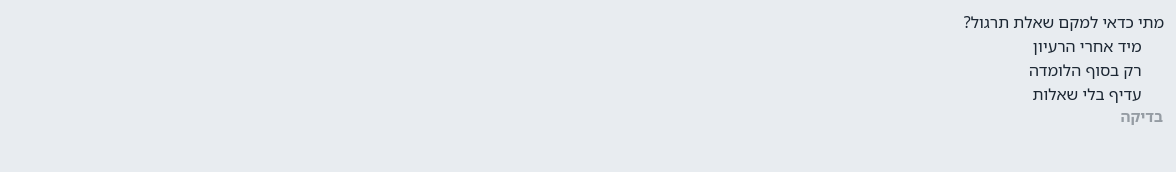
Test: QuizRenderer — מענה › בלי ניסיון נוסף, השאלה ננעלת אחרי מענה
This screenshot has width=1176, height=172.
Click the radio button labelled "רק בסוף הלומדה". click: (1085, 70)
box: [1029, 59, 1142, 81]
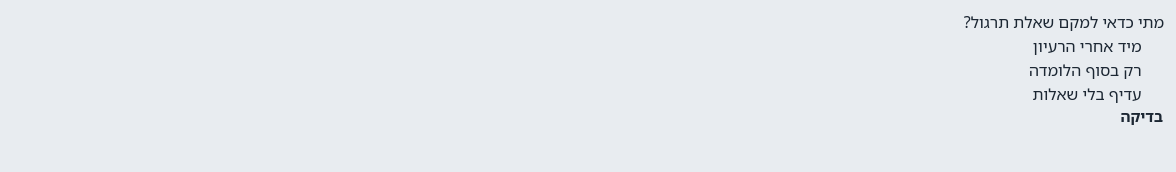
Click the button "בדיקה". click: (1142, 116)
box: [1119, 106, 1164, 126]
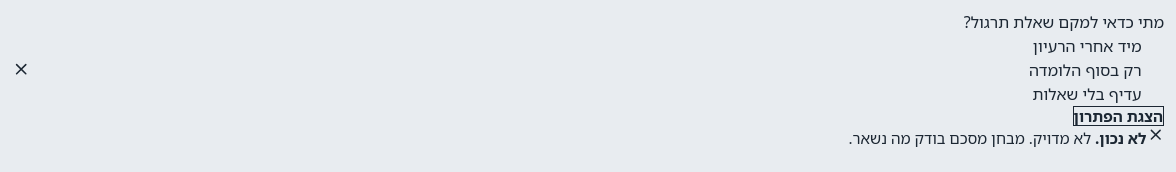
expect the radio button labelled "מיד אחרי הרעיון" is disabled: met, box [1033, 35, 1142, 57]
expect the radio button labelled "רק בסוף הלומדה" is disabled: met, box [12, 58, 1164, 82]
